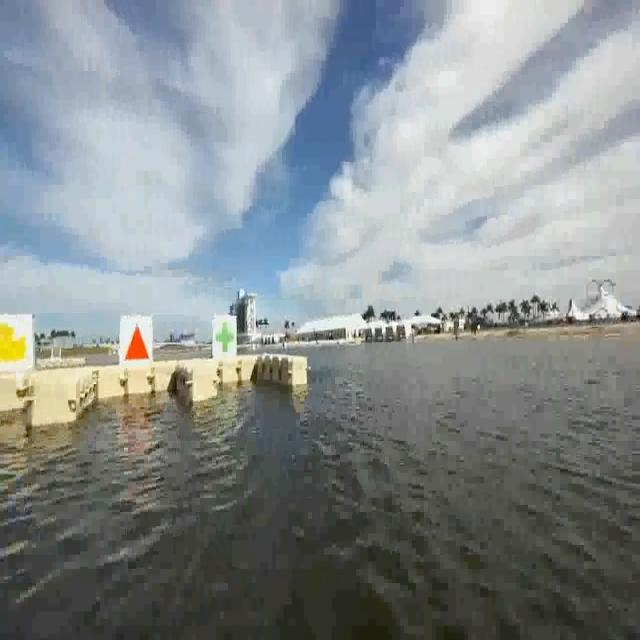blue-cross: (214, 315, 239, 362)
yellow-duck: (3, 315, 33, 371)
